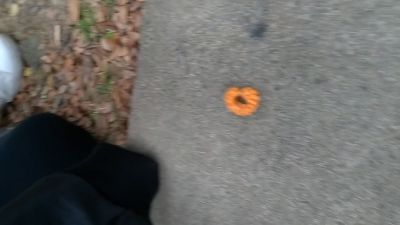eggs: (221, 85, 262, 119)
